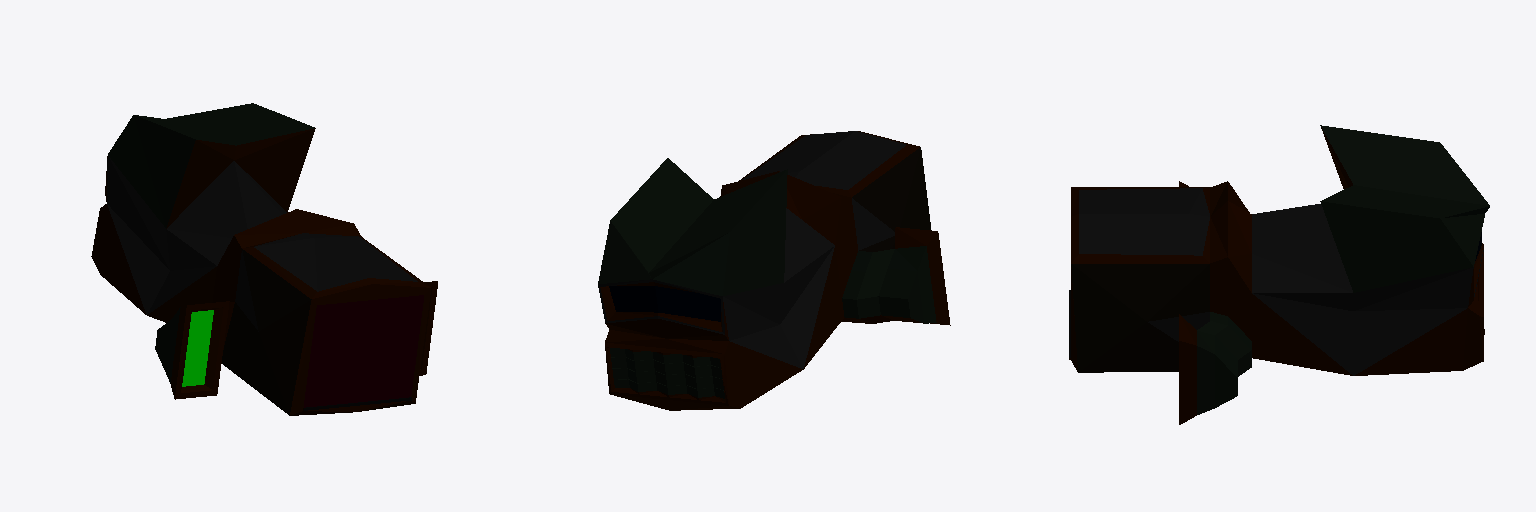
Rendered from Scavenger_Idle_2.obj.
The picture shows the model from 3 angles: view 1: azimuth 30°, elevation 25°; view 2: azimuth 150°, elevation 25°; view 3: azimuth 270°, elevation 25°; orthographic projection.
Parts seen in each view (by area): view 1: Cube.001; view 2: Cube.001; view 3: Cube.001.
Part boxes in pixels (bbox=[...]): Cube.001: bbox=[91, 103, 437, 415]; Cube.001: bbox=[598, 131, 950, 410]; Cube.001: bbox=[1069, 125, 1489, 424].
Bounding box in the file's own units: 8.77 × 7.07 × 12.11.